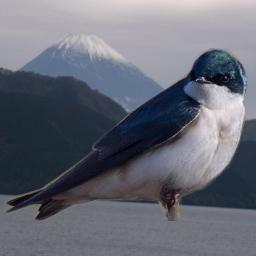Swallow: (2, 48, 249, 221)
